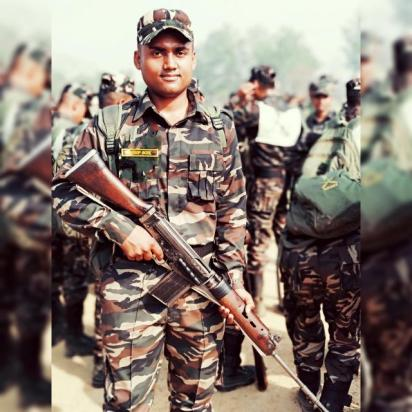Gun: (61, 147, 330, 412)
